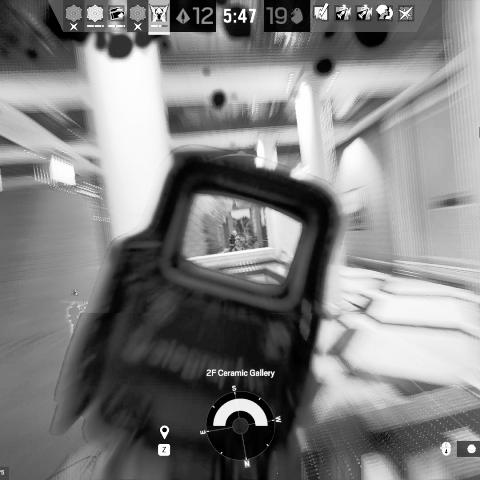Character: (226, 230, 245, 252)
Friend_label: (60, 287, 90, 305)
Head: (232, 231, 237, 236)
